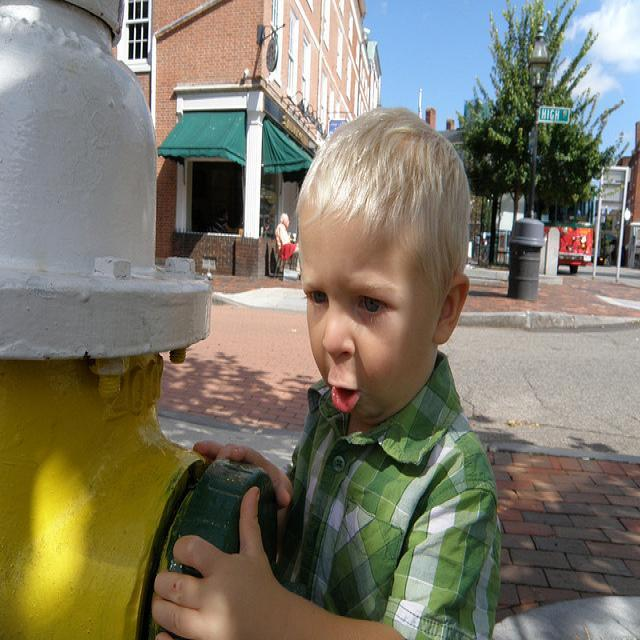fire_hydrant: (0, 0, 279, 640)
